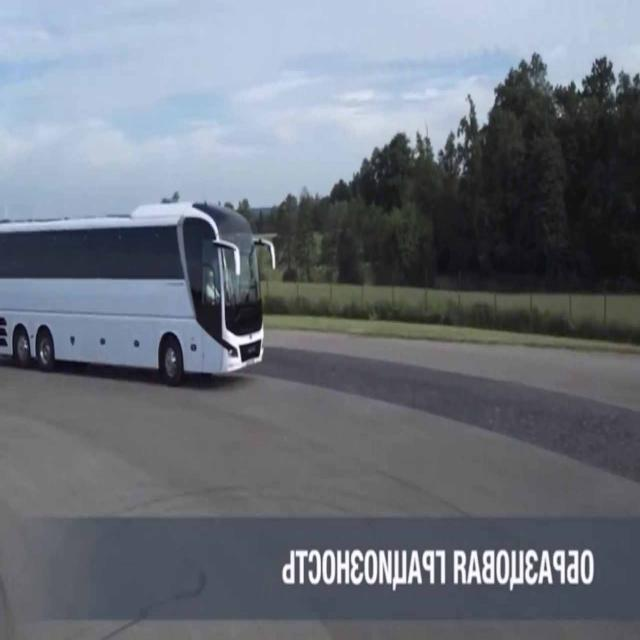bus: (0, 198, 279, 392)
